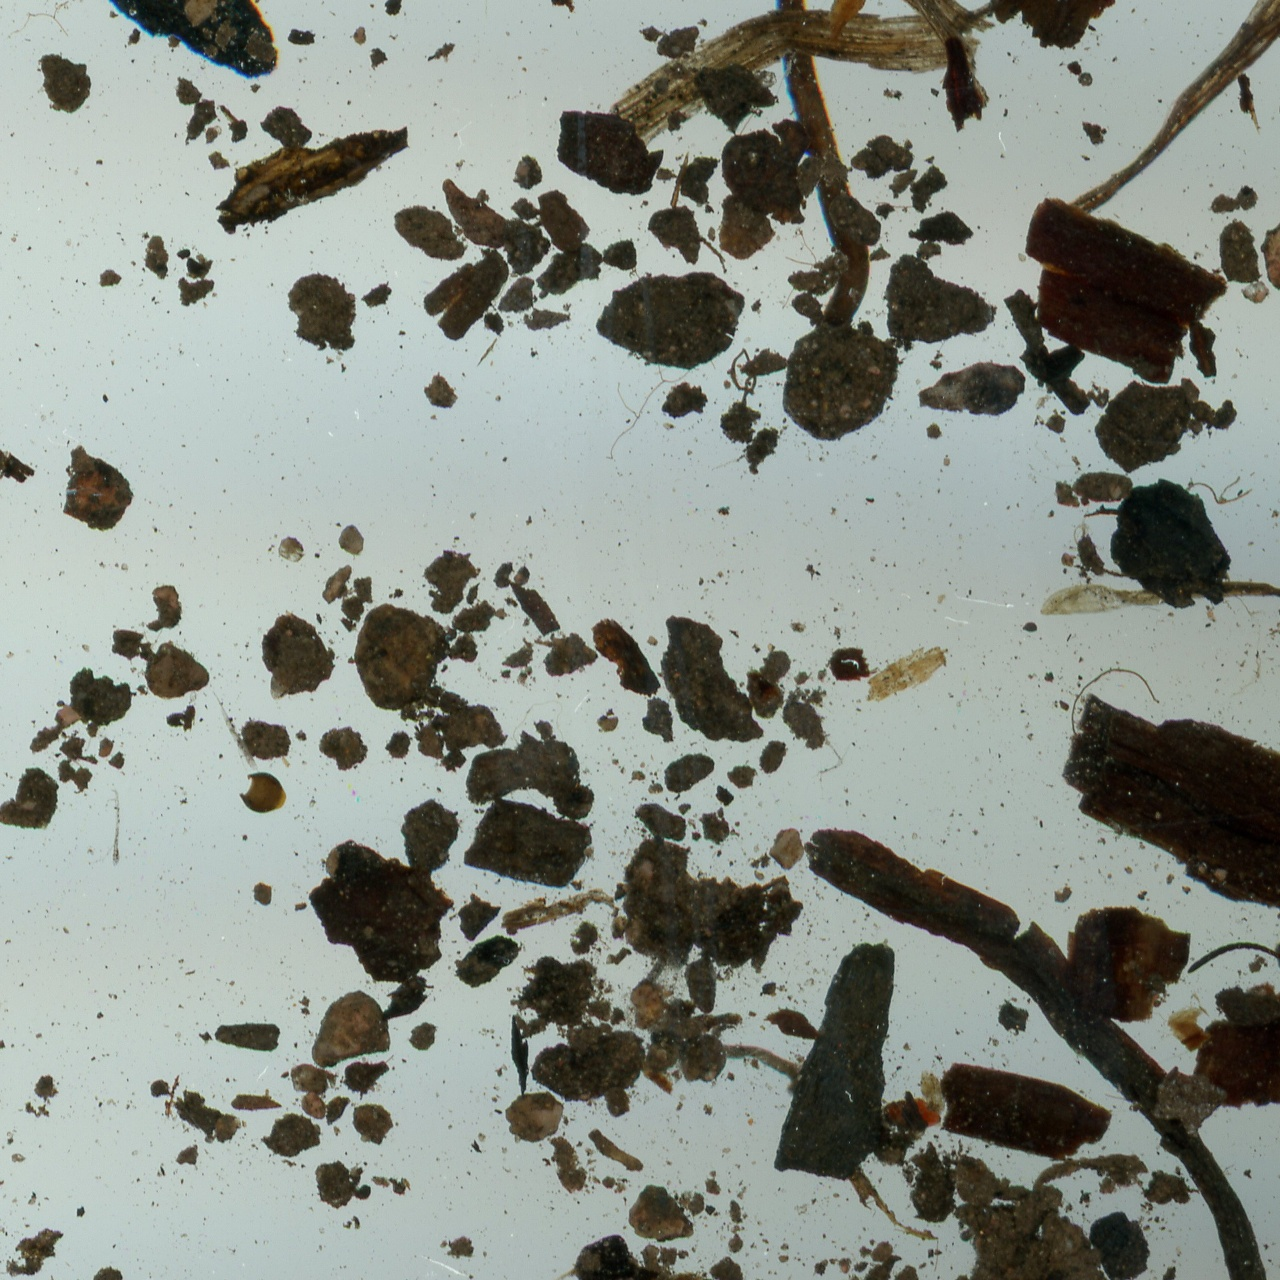arthropod: (1128, 794, 1280, 1274)
